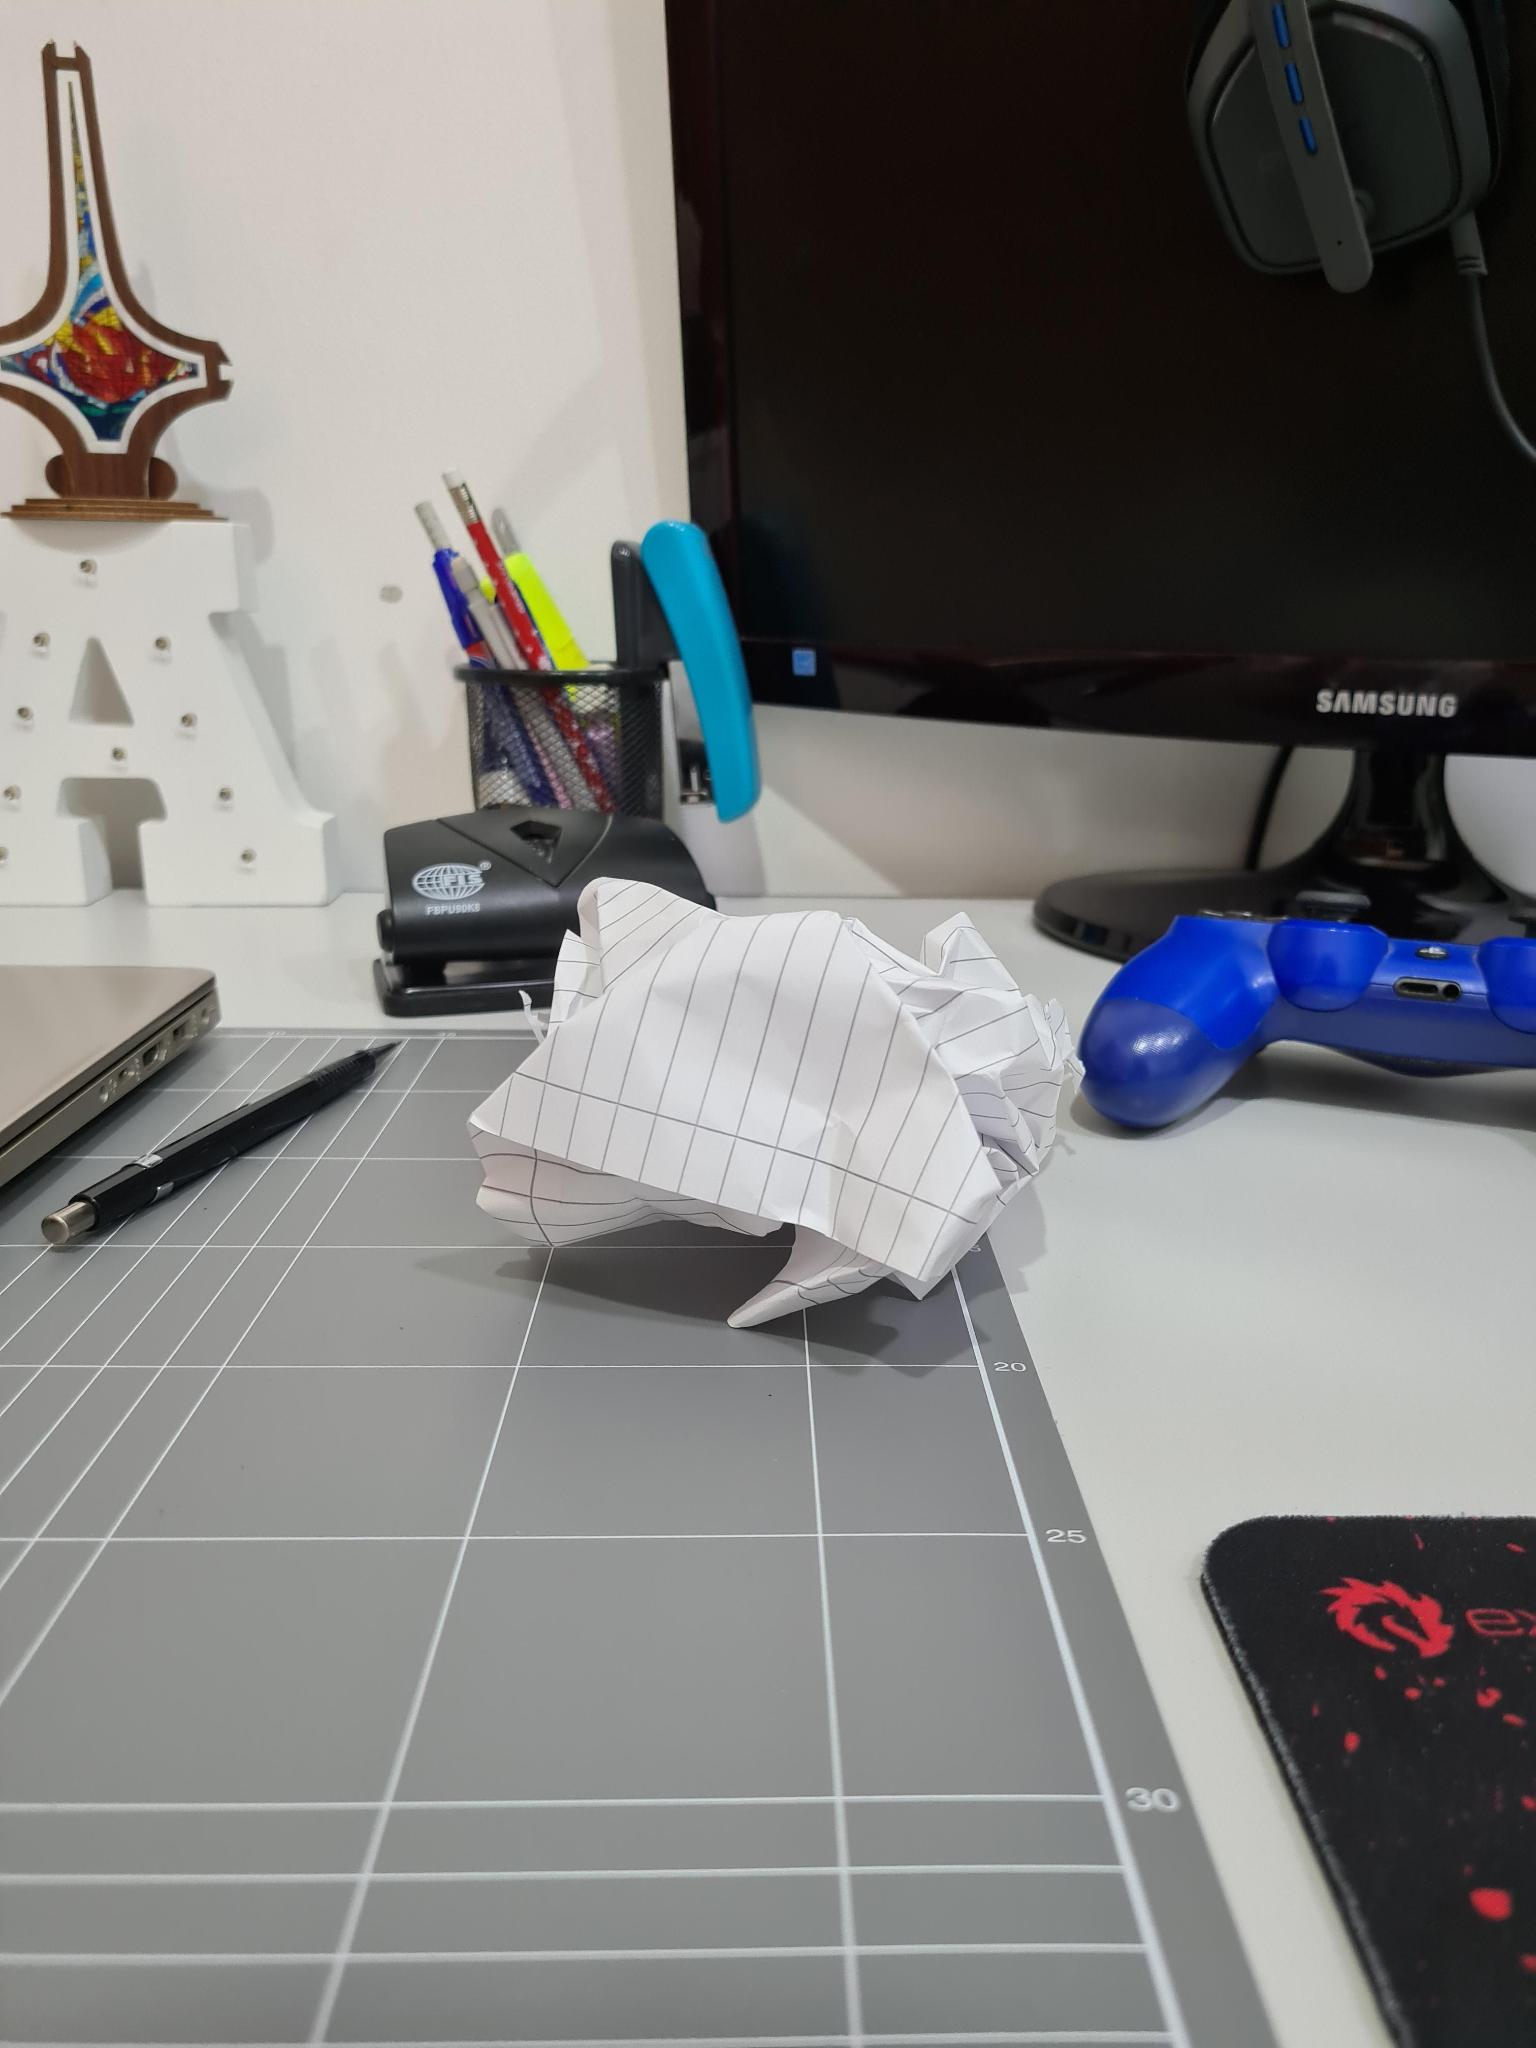metal: (1187, 0, 1502, 290)
paper: (471, 879, 1078, 1326)
